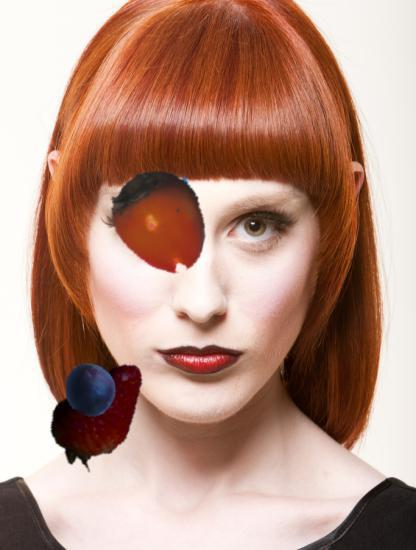Kaki: (107, 167, 218, 278)
Plum: (63, 363, 117, 417)
Strawberry: (48, 365, 155, 472)
